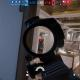Character: (38, 39, 43, 52)
Head: (40, 39, 42, 41)
